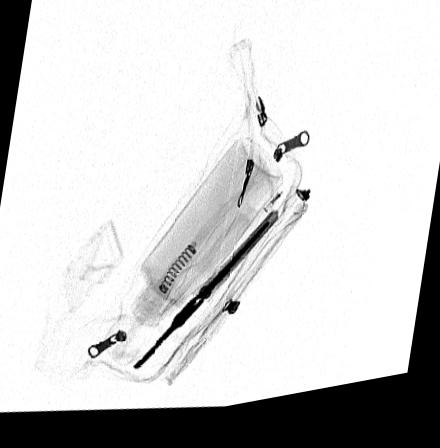Pliers: (134, 225, 277, 372)
